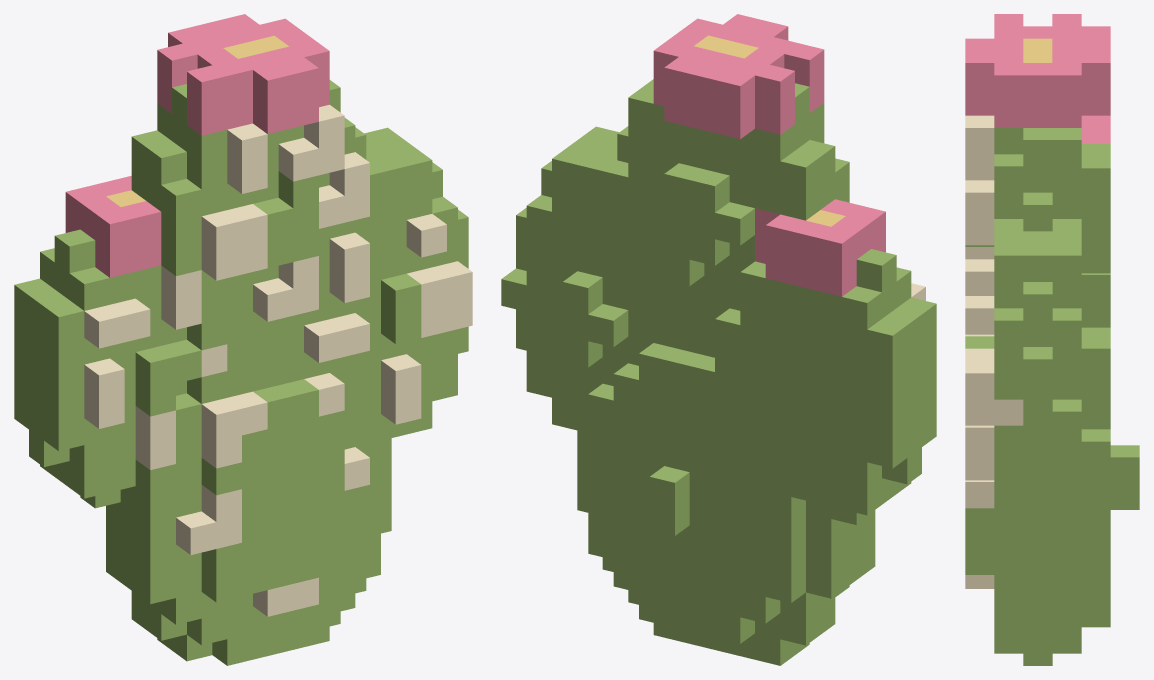
The model's file is prickly_pear.glb.
3 views of the same model, side by side, from view 1: azimuth 30°, elevation 25°; view 2: azimuth 150°, elevation 25°; view 3: azimuth 270°, elevation 25° (orthographic).
Size of the model in its own units: 0.6667 by 0.9167 by 0.25.
